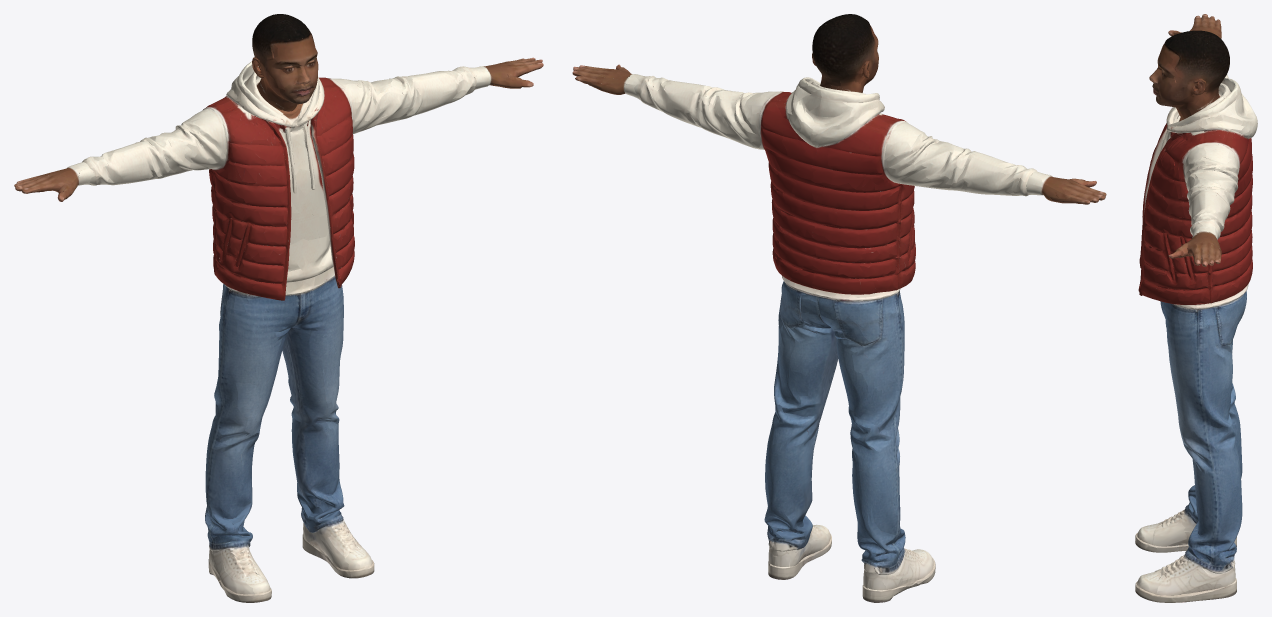
Rendered from character_n10_optimized.glb.
The picture shows the model from 3 angles, left to right: view 1: azimuth 30°, elevation 25°; view 2: azimuth 150°, elevation 25°; view 3: azimuth 270°, elevation 25°; orthographic projection. The views are drawn at different scales.
Parts seen in each view (by area): view 1: output_unwrapped; view 2: output_unwrapped; view 3: output_unwrapped.
Boxes of the visible parts, box(x1,y1,x2,y2) form: output_unwrapped: box(14, 14, 543, 602); output_unwrapped: box(572, 14, 1106, 602); output_unwrapped: box(1135, 14, 1257, 602).
Size of the model in its own units: 1.9 by 1.9 by 0.3939.
1 material, 1 textured.
